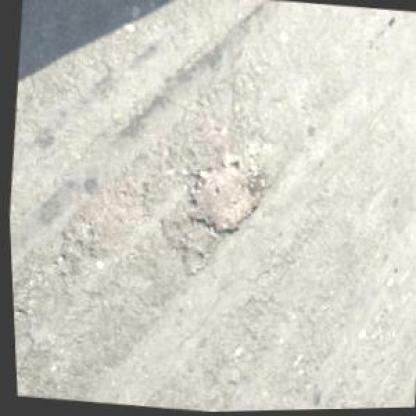pothole: (175, 142, 270, 246)
